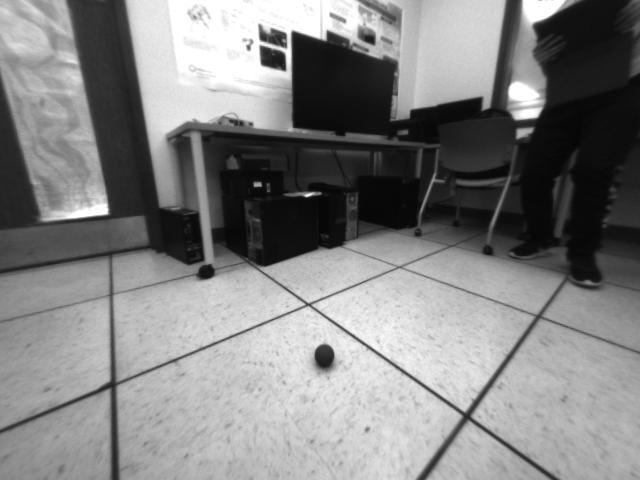dogtoy: (310, 340, 342, 374)
